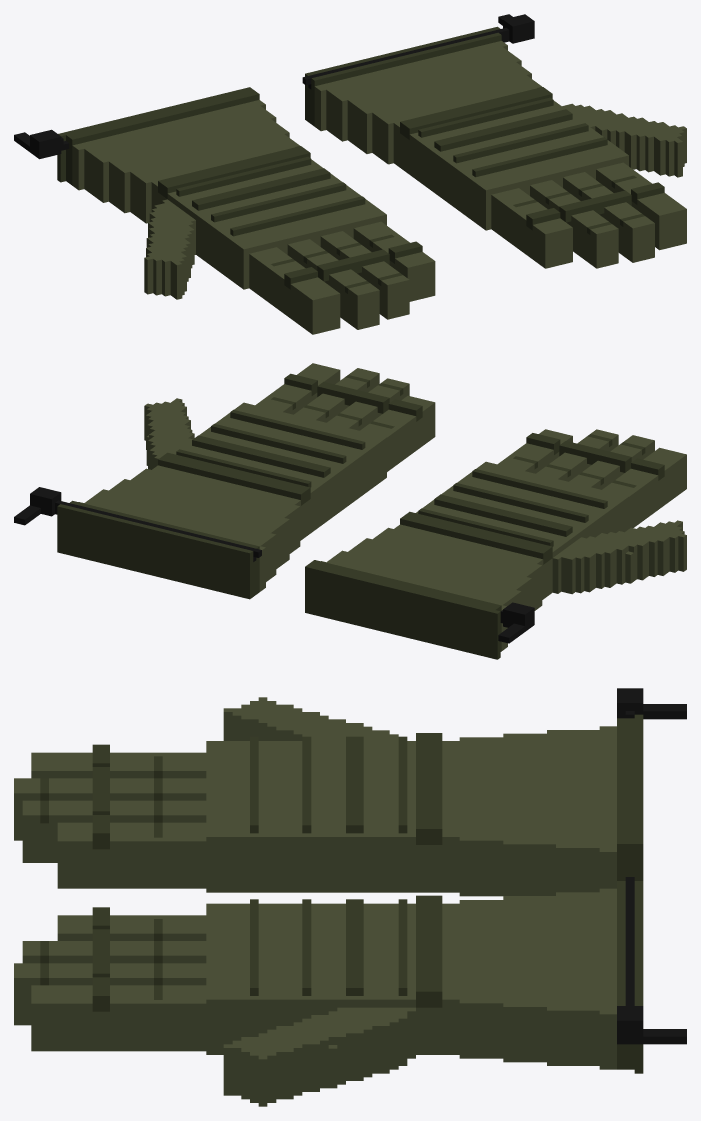
Rendered from winter_gloves_army.glb.
3 views of the same model, one above another, from view 1: azimuth 30°, elevation 25°; view 2: azimuth 150°, elevation 25°; view 3: azimuth 270°, elevation 25° (orthographic). The views are drawn at different scales.
Visible parts, largest first — view 1: winter_gloves_army:compound; view 2: winter_gloves_army:compound; view 3: winter_gloves_army:compound.
Boxes of the visible parts, <box> form: winter_gloves_army:compound: <box>14,14,686,334</box>; winter_gloves_army:compound: <box>14,363,686,659</box>; winter_gloves_army:compound: <box>14,688,686,1106</box>.
Size of the model in its own units: 0.392 by 0.036 by 0.308.
